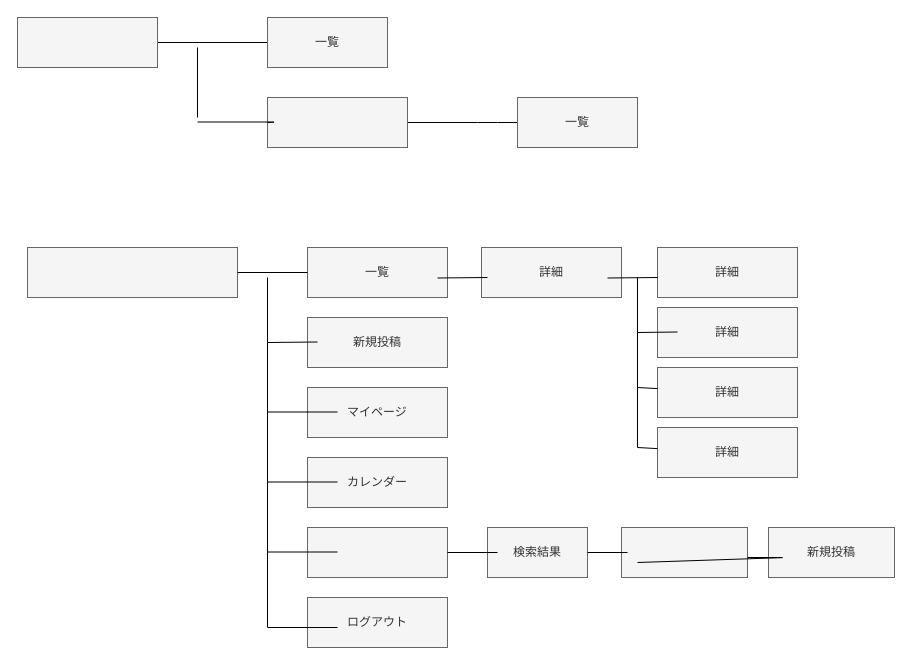
This 912x665 diagram has some shape labels left out. The centre of each missing label's shape, as x and y in pixels:
"テンプレート検索画面" belongs at (x=377, y=552).
"テンプレート詳細" belongs at (x=684, y=552).
"メニューバー" belongs at (x=132, y=272).
"ユーザー新規登録画面" belongs at (x=337, y=122).
"ログイン画面" belongs at (x=87, y=42).
